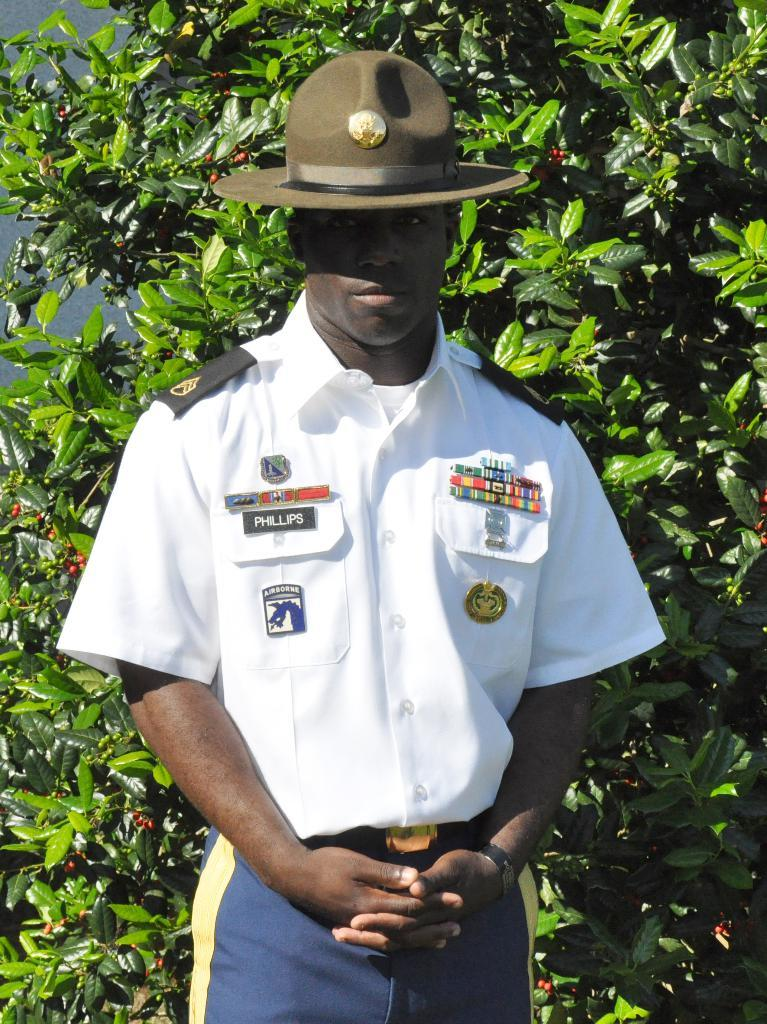Hat: (210, 49, 534, 212)
